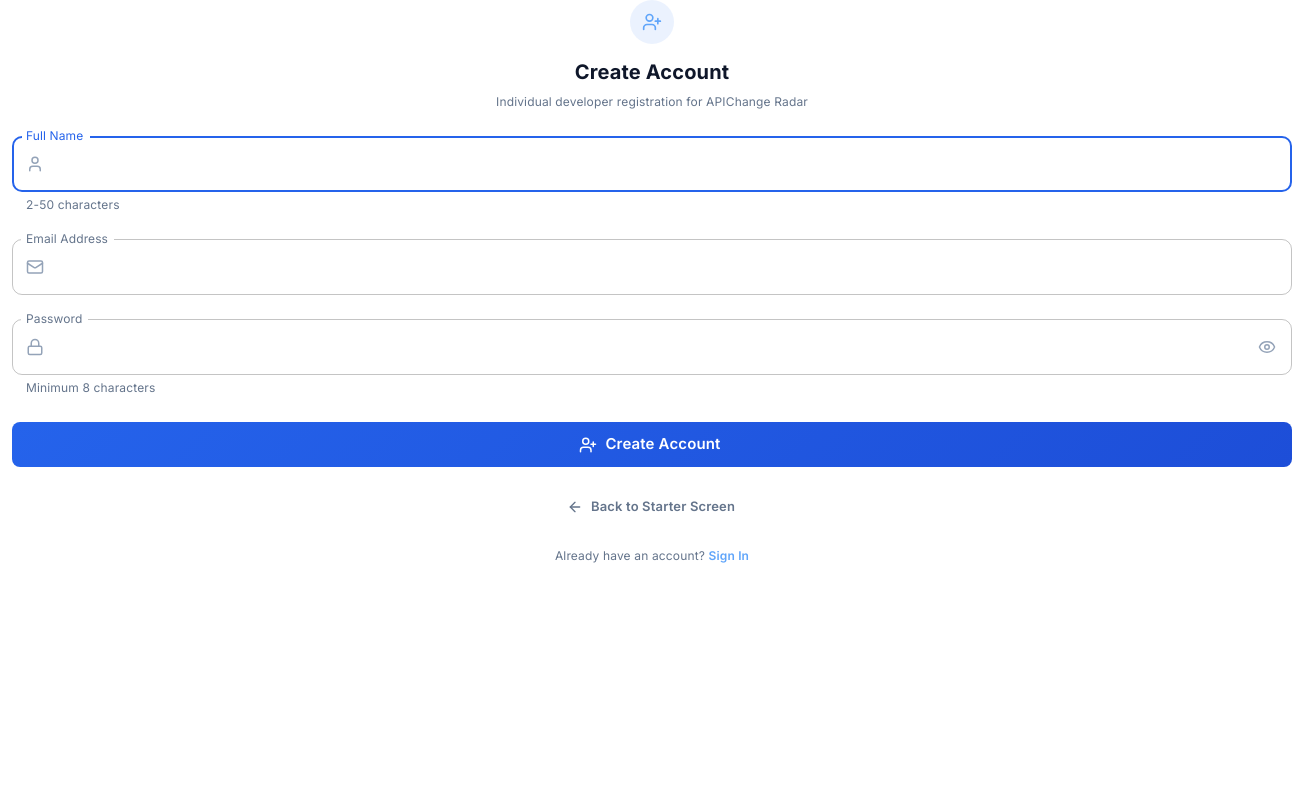
RegisterPage › validates name length (2 to 50 chars) before submitting
Type "A" into the field labelled "Full Name".
click(672, 164); type("A")  # box [52,136,1292,192]
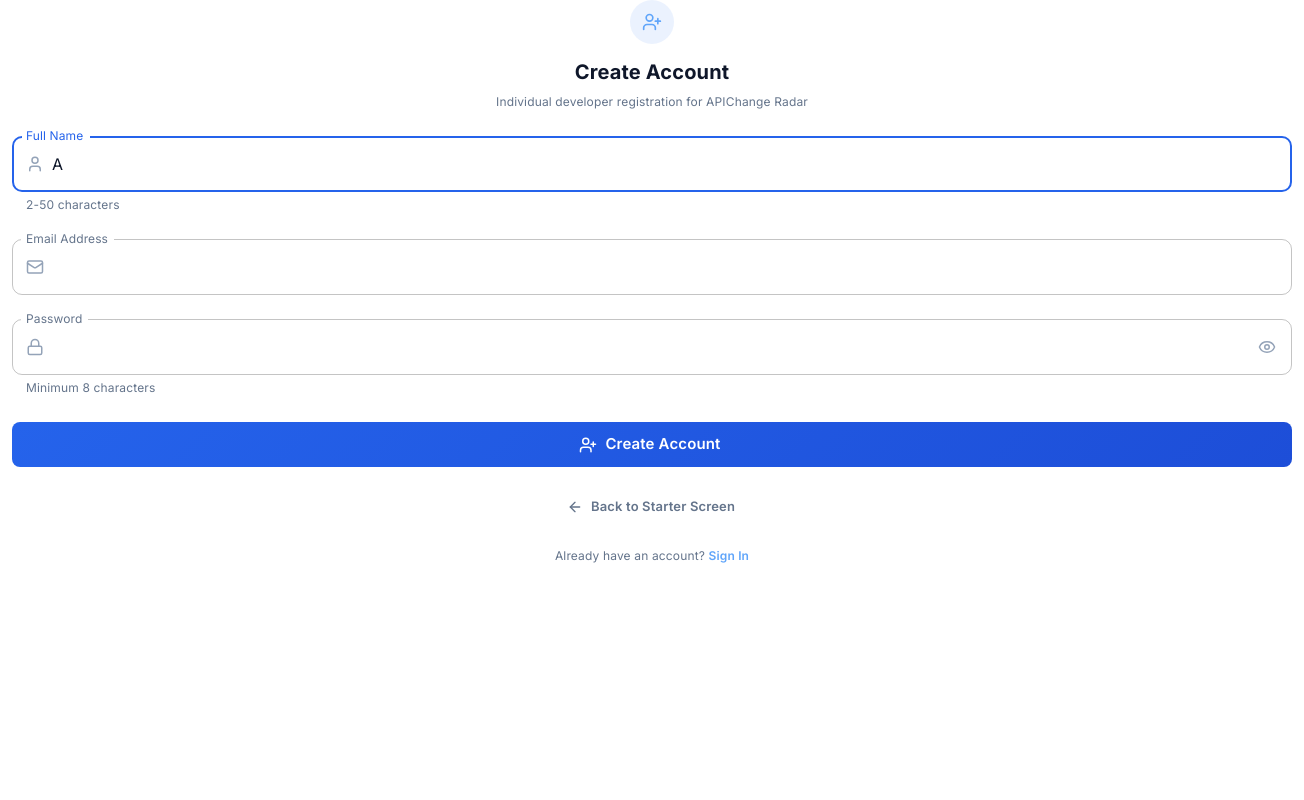
Type "alice@example.com" into the field labelled "Email Address".
click(672, 267); type("alice@example.com")  # box [52,239,1292,295]
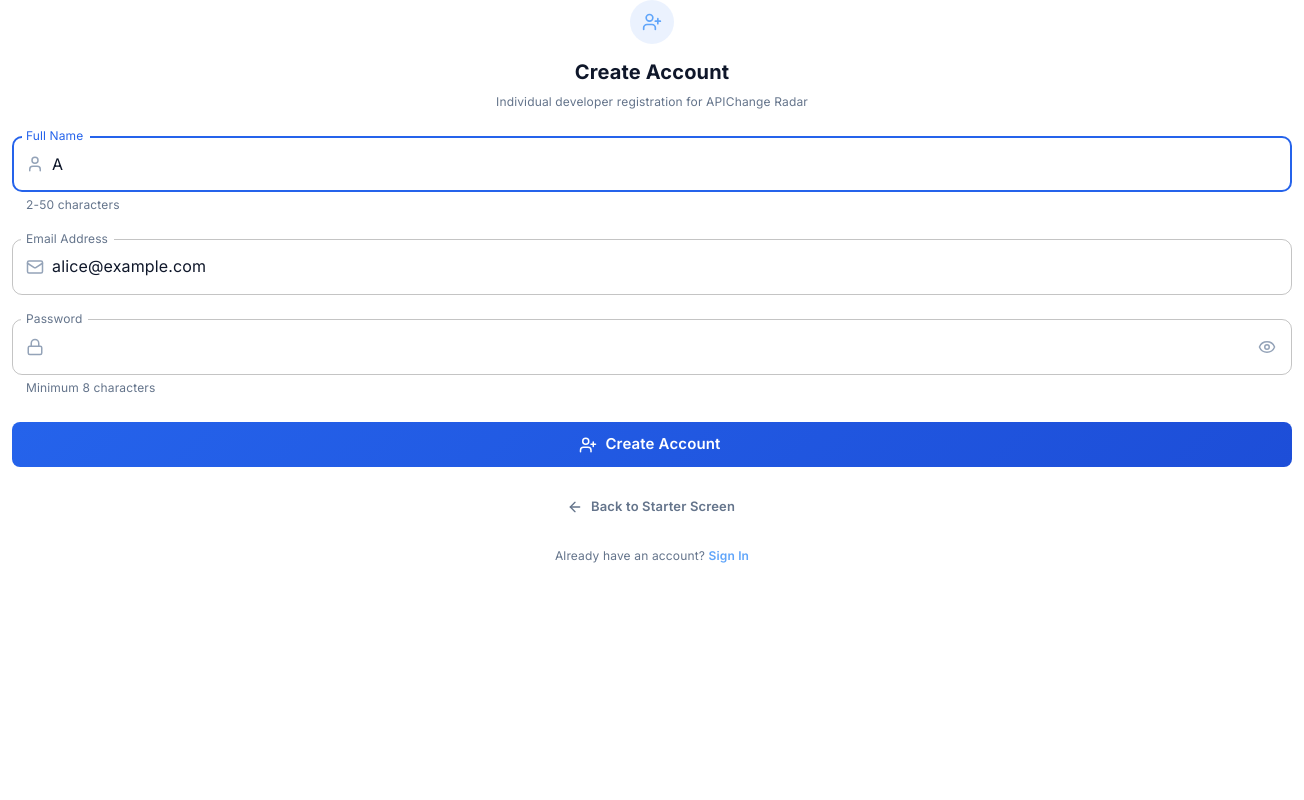
Type "StrongPass123" into the password field labelled "Password".
click(648, 347); type("StrongPass123")  # box [52,319,1245,375]
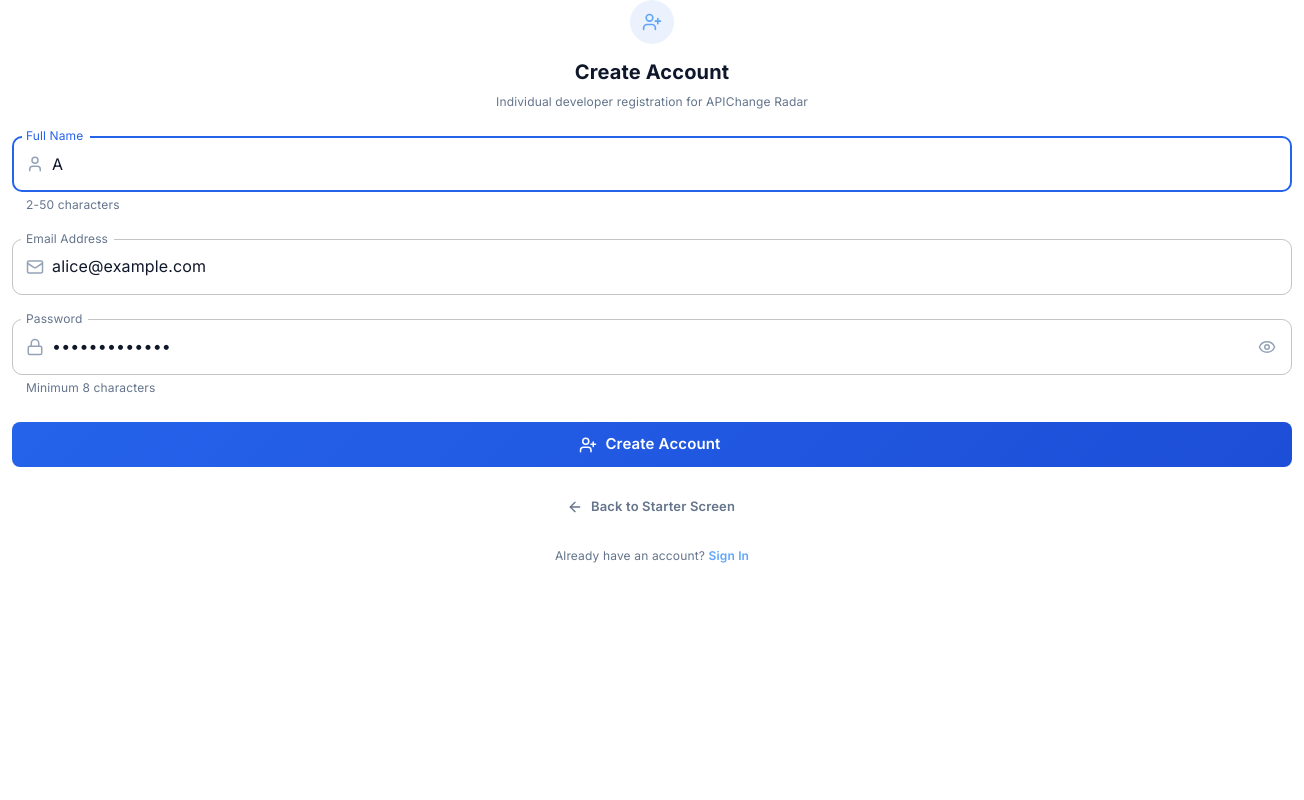
Click the button "Create Account".
click(652, 444)  # box [12,422,1292,467]
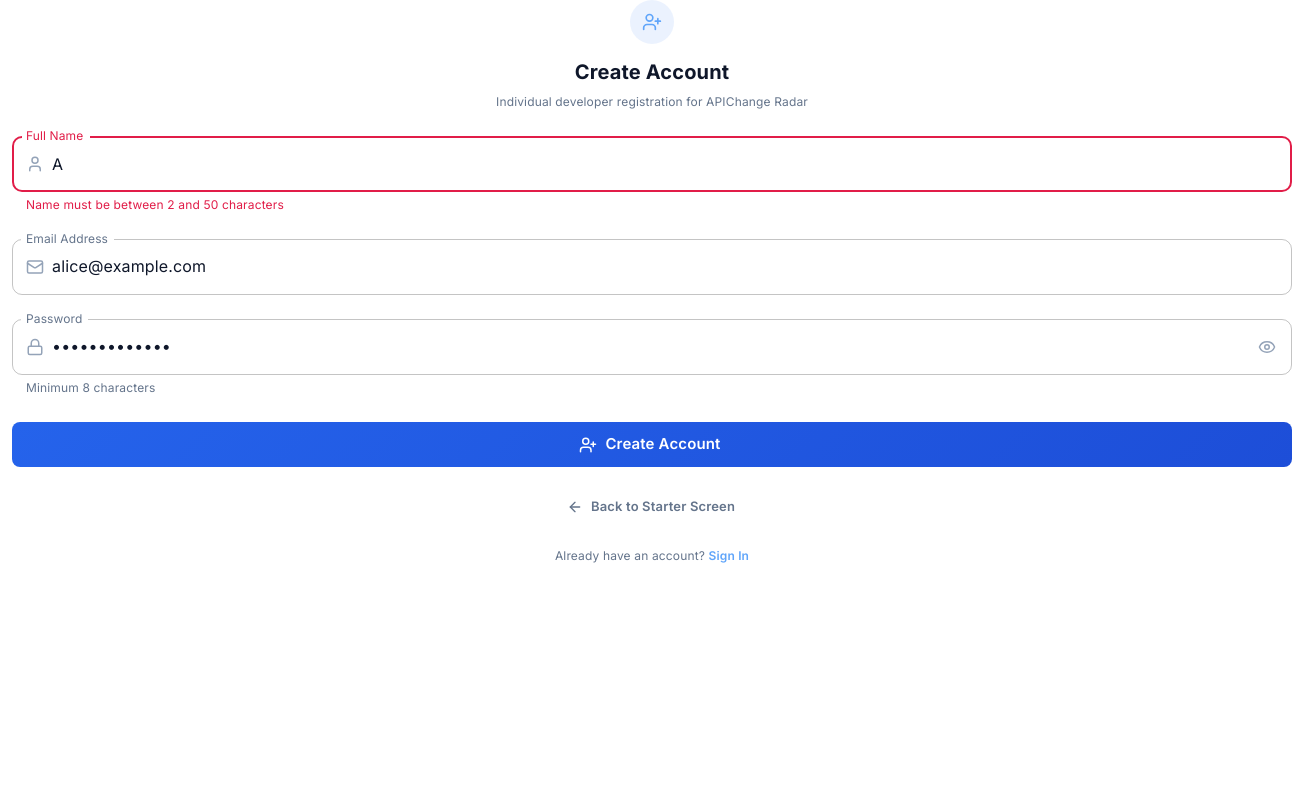
Result: the text "Name must be between 2 and 50 characters" is shown at [26,197,284,212]
